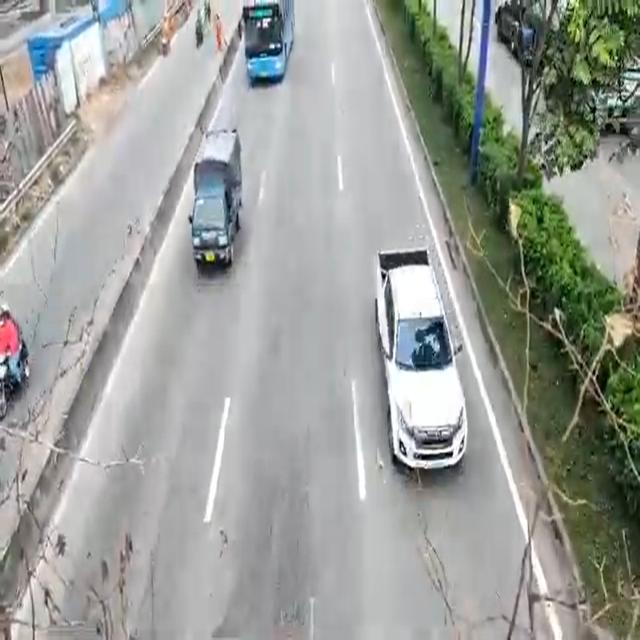bus: (239, 1, 297, 87)
car: (369, 248, 472, 480)
truck: (193, 131, 240, 276)
